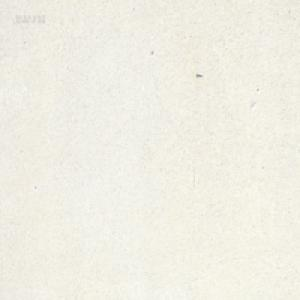Nail: (196, 73, 203, 77)
